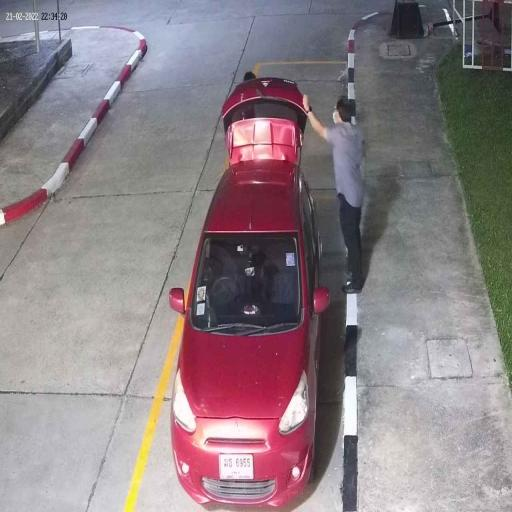car: (170, 158, 323, 512)
